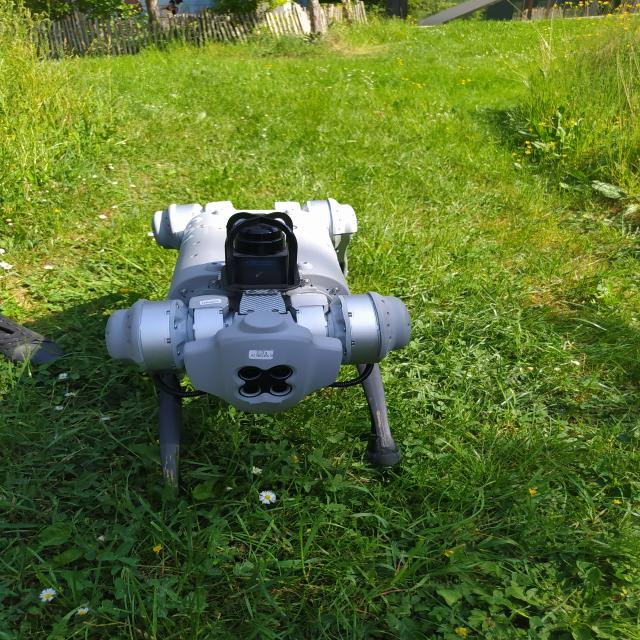unitree-go1-robot: (95, 182, 424, 513)
